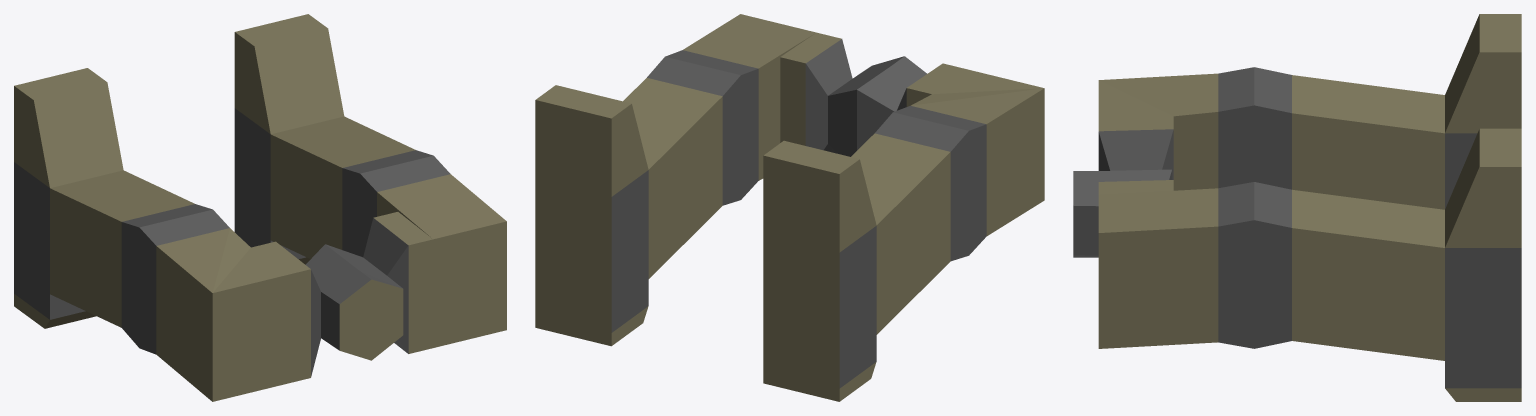
File: legs1.obj
3 renders of one model, left to right at view 1: azimuth 30°, elevation 25°; view 2: azimuth 150°, elevation 25°; view 3: azimuth 270°, elevation 25°, orthographic. The views are drawn at different scales.
Visible parts, largest first — view 1: MechLegs1; view 2: MechLegs1; view 3: MechLegs1.
Boxes of the visible parts, <box> form: MechLegs1: <box>14,14,506,401</box>; MechLegs1: <box>535,14,1044,401</box>; MechLegs1: <box>1073,14,1521,401</box>.
Bounding box in the file's own units: 4.68 × 3.35 × 5.79.
1 material, 1 textured.
